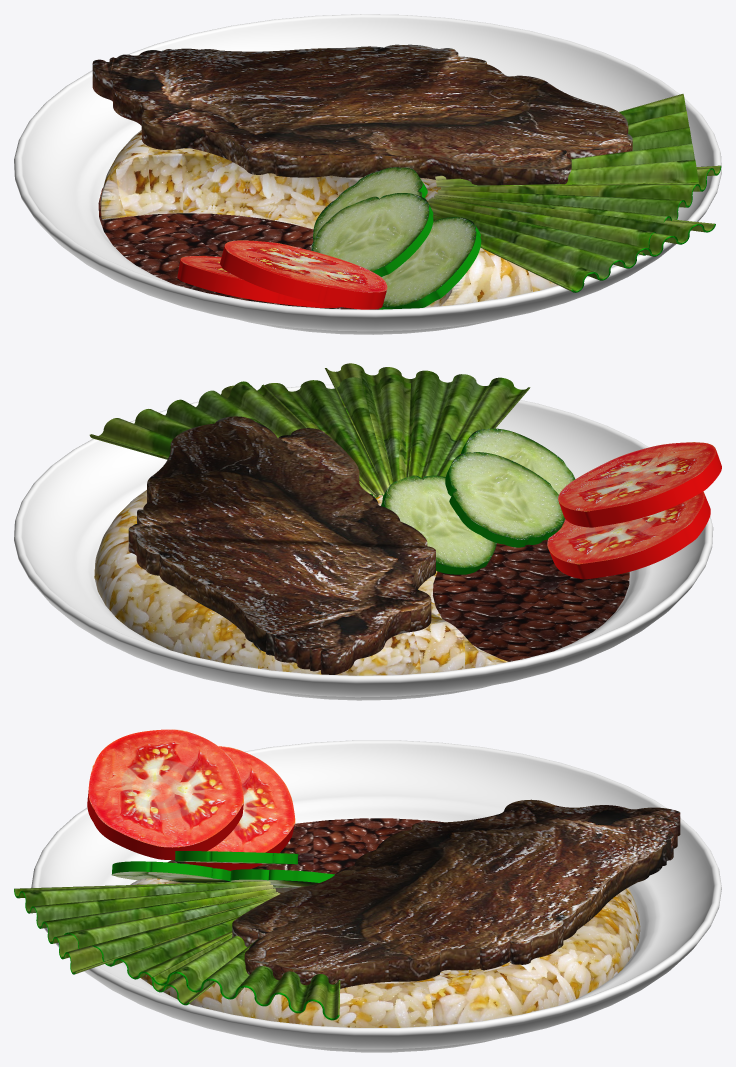
File: prato.glb
The picture shows the model from 3 angles, top to bottom: view 1: azimuth 30°, elevation 25°; view 2: azimuth 150°, elevation 25°; view 3: azimuth 270°, elevation 25°; orthographic projection. The views are drawn at different scales.
Visible parts, largest first — view 1: prato+do+dia; view 2: prato+do+dia; view 3: prato+do+dia.
Boxes of the visible parts, x1=… form: prato+do+dia: x1=14, y1=14, x2=721, y2=334; prato+do+dia: x1=14, y1=363, x2=721, y2=700; prato+do+dia: x1=14, y1=729, x2=721, y2=1052.
Size of the model in its own units: 23.76 by 4.58 by 24.41.
Materials: 10 (6 with a texture image).
